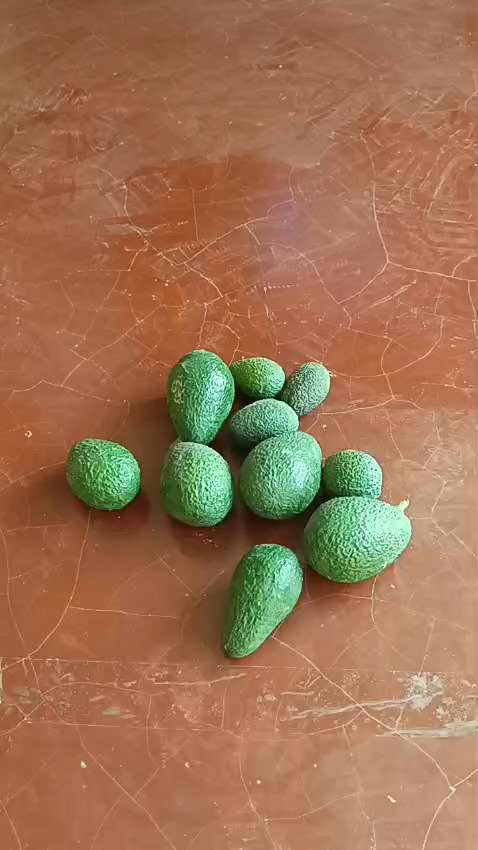Primera: (301, 493, 413, 582), (236, 431, 322, 519), (157, 439, 234, 527), (165, 349, 234, 443), (277, 360, 331, 417)
Segunda: (221, 542, 303, 656), (64, 436, 143, 510)
Tercera: (227, 397, 298, 449), (320, 449, 383, 500), (228, 355, 285, 400)
